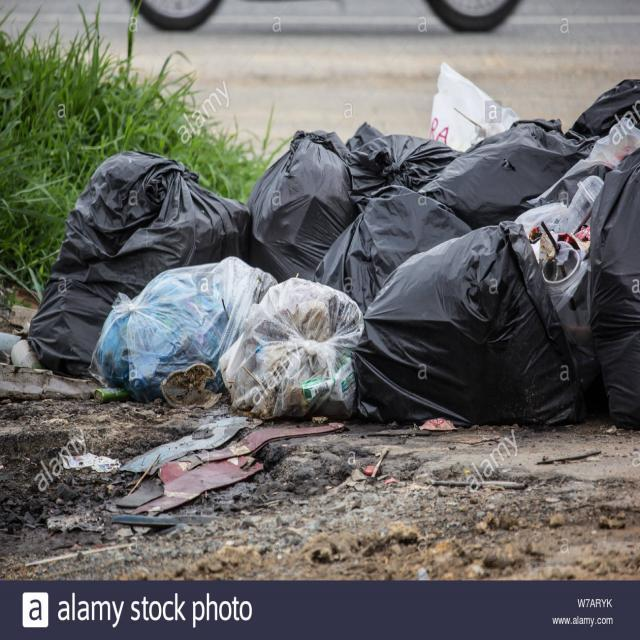garbage: (42, 83, 640, 414), (104, 408, 364, 568), (0, 284, 44, 386), (424, 468, 538, 496), (412, 59, 504, 91)
